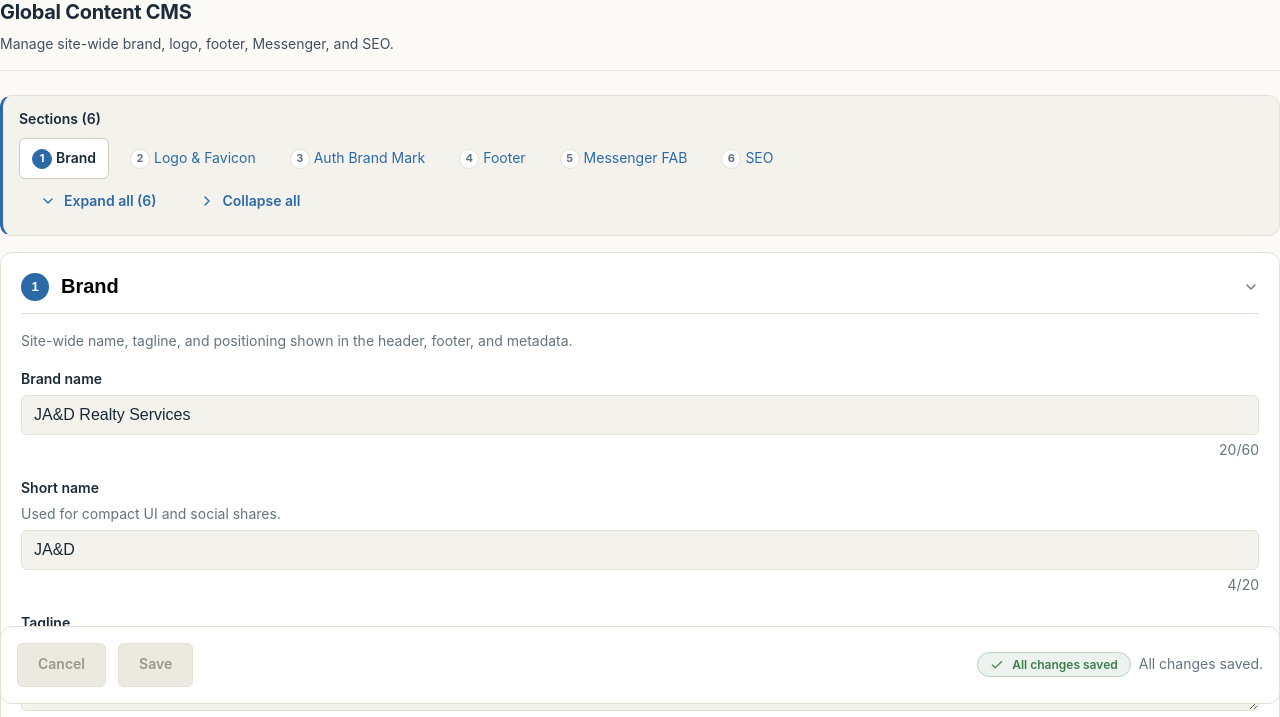
Scenario: CmsGlobalPage — Global Content CMS › allows editing the brand name
Expected: the heading "Brand" is shown, [61,275,119,298]
Replace the text in the field showing "JA&D Realty Services" with "JA&D Edited" at [640, 415], box [21,395,1259,435]
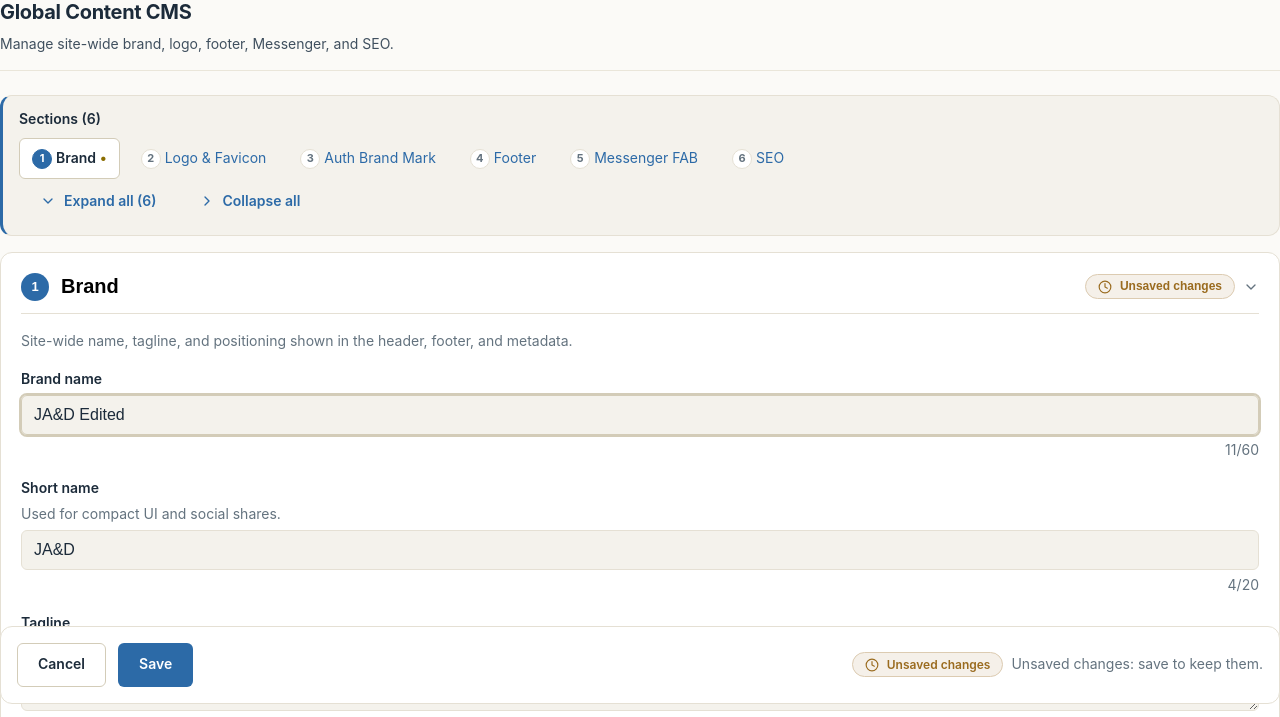
Click the button "Cancel".
click(62, 665)  # box [17,643,106,687]
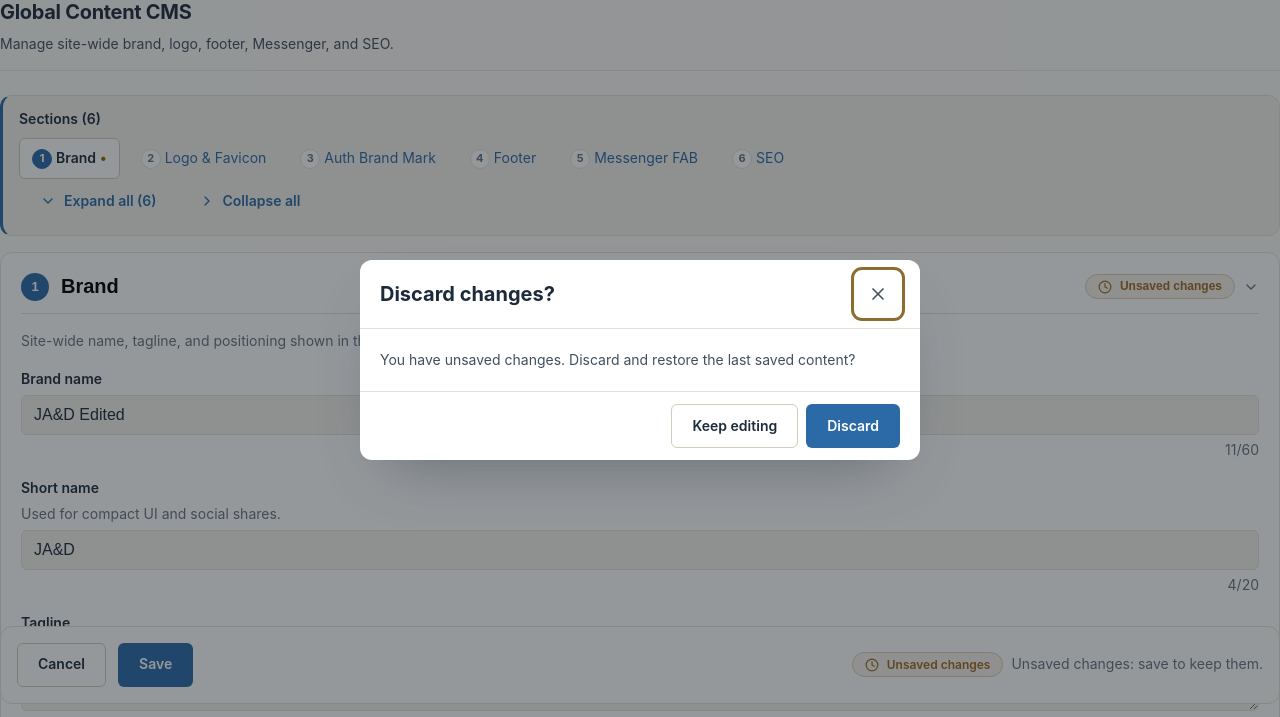
Now the heading "Discard changes?" is shown, box [380,278,555,310]
Click the button "Discard".
click(853, 426)  # box [806,404,900,448]
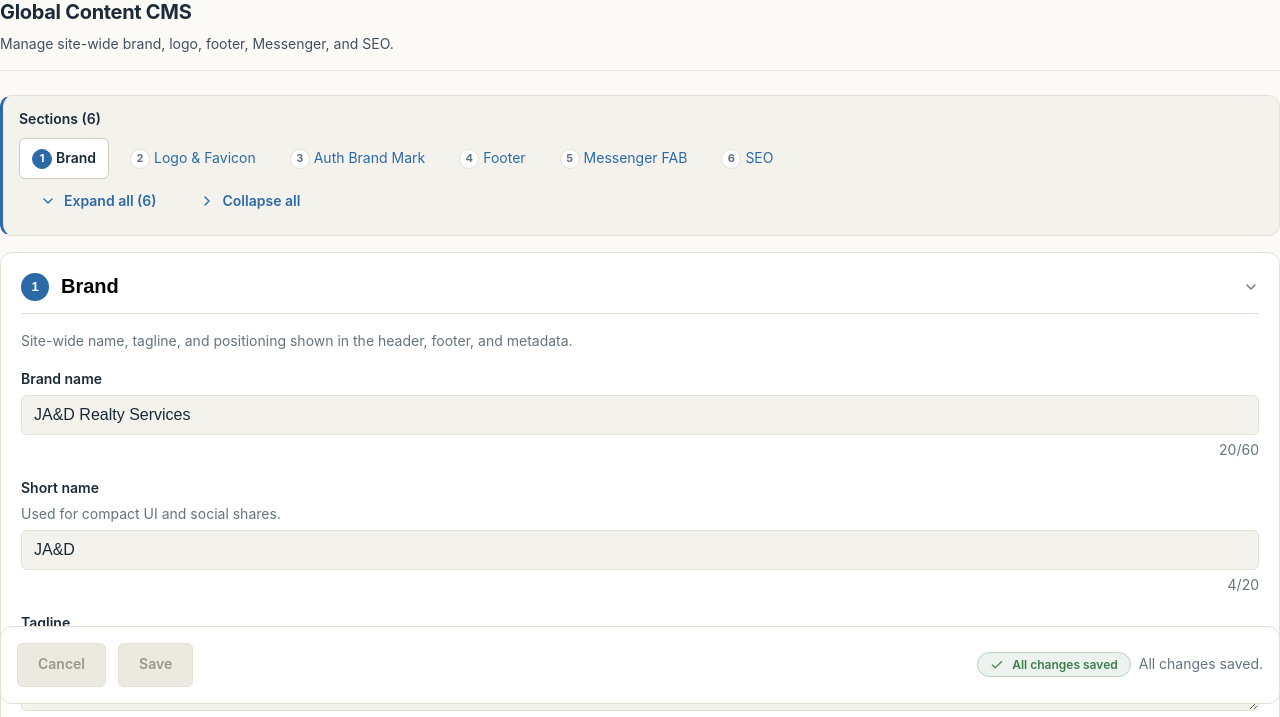
Now the field showing "JA&D Realty Services" is shown, box [21,395,1259,435]
